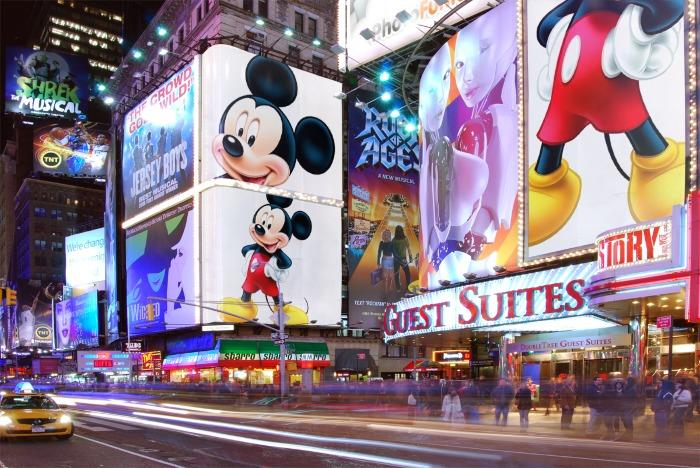Mickey_Mouse: (207, 48, 353, 184)
